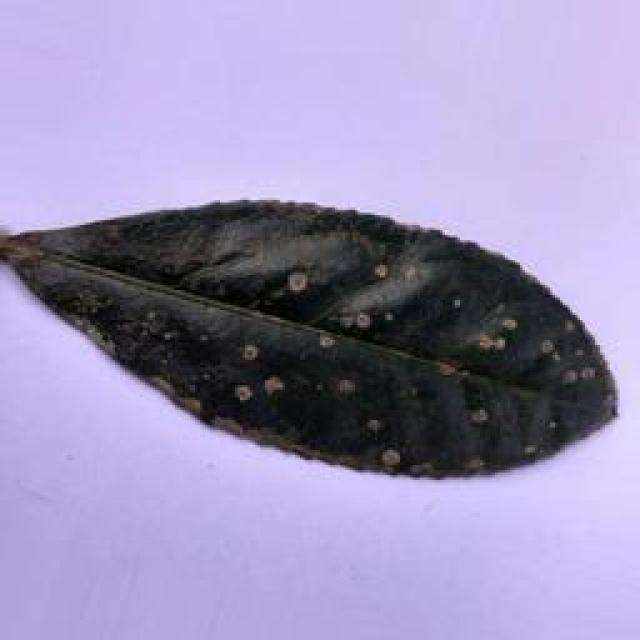Algal Leaf Spot: (6, 181, 620, 487)
